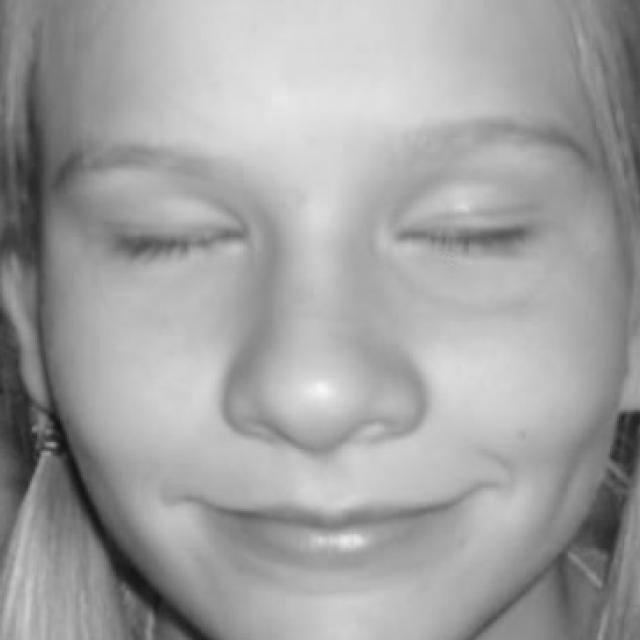real: (37, 0, 640, 640), (90, 174, 579, 304)
